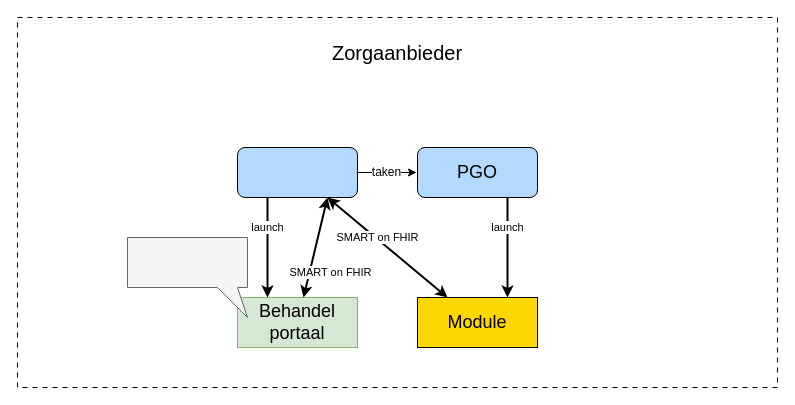
This 795x405 diagram has some shape labels left out. Each missing label, with the box of its shape:
DVA: (236, 146, 358, 198)
Maakt taak: (126, 236, 248, 318)
